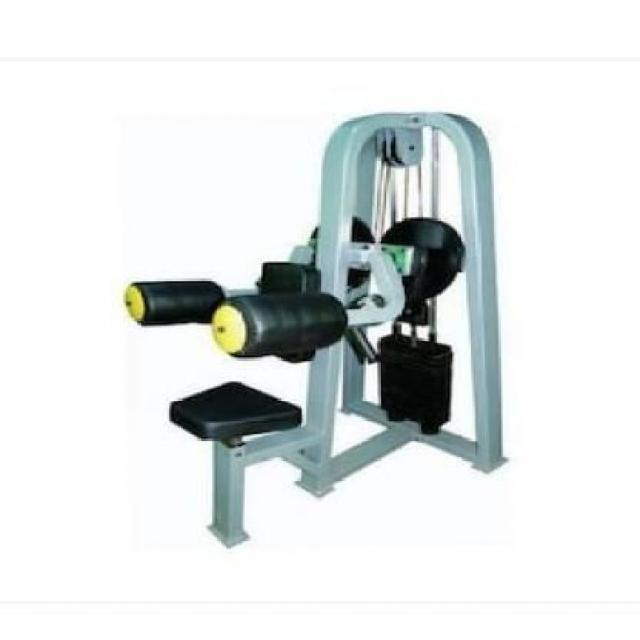lateral raises machine: (121, 112, 508, 550)
